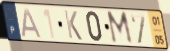0: (85, 10, 104, 43)
1: (42, 8, 56, 40)
7: (130, 12, 147, 46)
A: (21, 7, 43, 39)
K: (63, 9, 84, 42)
M: (105, 11, 135, 47)
